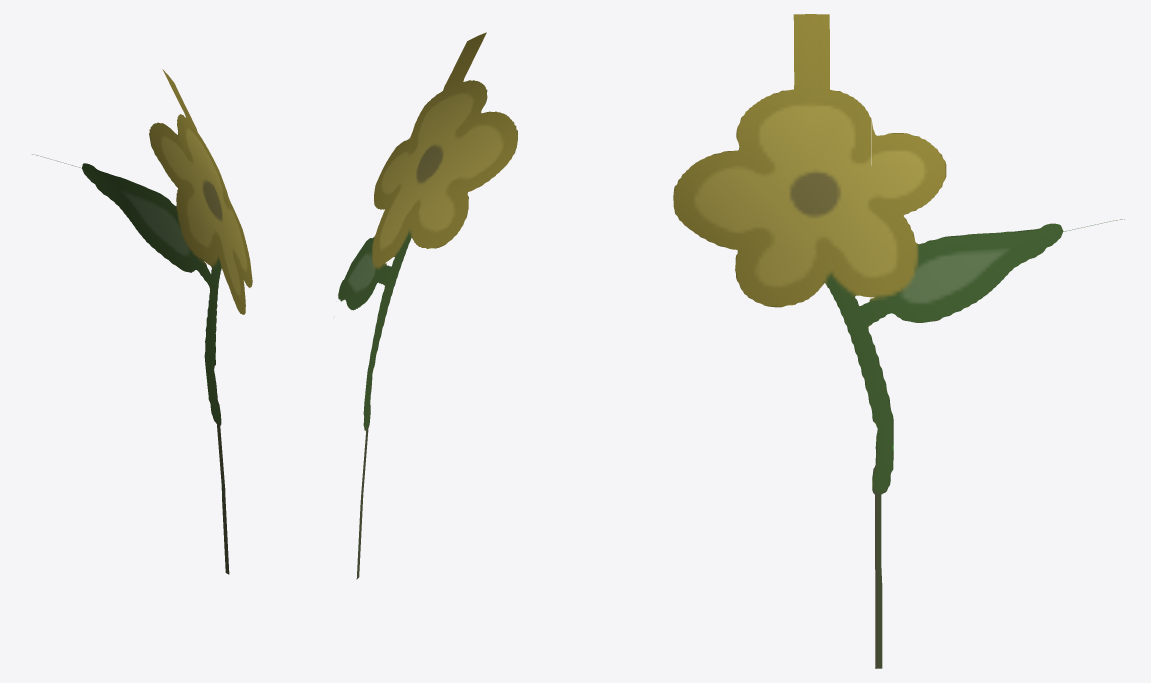
File: Flower.fbx
3 renders of one model, left to right at view 1: azimuth 30°, elevation 25°; view 2: azimuth 150°, elevation 25°; view 3: azimuth 270°, elevation 25°, orthographic. The views are drawn at different scales.
Visible parts, largest first — view 1: Flower; view 2: Flower; view 3: Flower.
Boxes of the visible parts, <box> form: Flower: <box>32,69,252,574</box>; Flower: <box>338,32,517,579</box>; Flower: <box>673,14,1124,668</box>.
Bounding box in the file's own units: 15 × 71.33 × 56.36.
